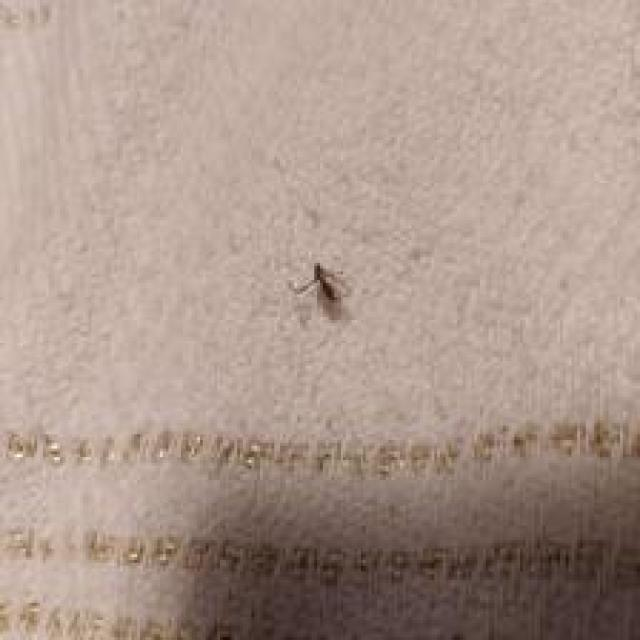Culex: (287, 260, 350, 320)
